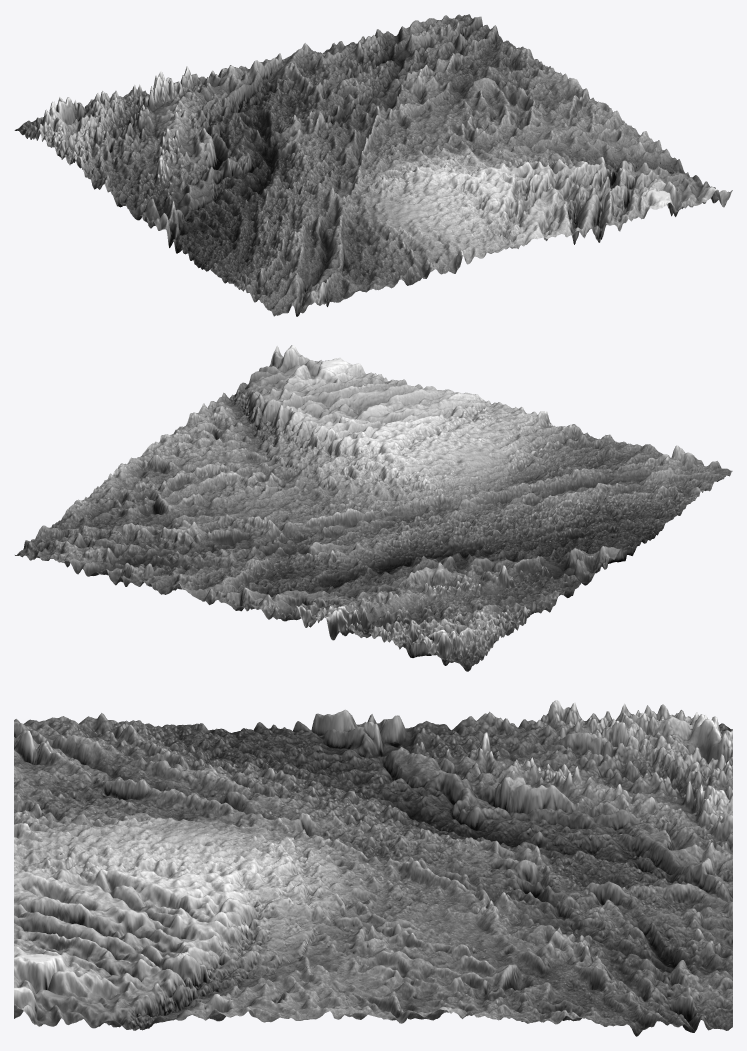
The model's file is marswalk-ai-relief.glb.
3 renders of one model, top to bottom at view 1: azimuth 30°, elevation 25°; view 2: azimuth 150°, elevation 25°; view 3: azimuth 270°, elevation 25°, orthographic. The views are drawn at different scales.
Parts seen in each view (by area): view 1: PIA26306_TerrainMesh; view 2: PIA26306_TerrainMesh; view 3: PIA26306_TerrainMesh.
Boxes of the visible parts, x1=… form: PIA26306_TerrainMesh: x1=14, y1=14, x2=732, y2=316; PIA26306_TerrainMesh: x1=15, y1=345, x2=732, y2=671; PIA26306_TerrainMesh: x1=14, y1=700, x2=732, y2=1036.
Size of the model in its own units: 200 by 12.5 by 200.
Materials: 1 (1 with a texture image).
